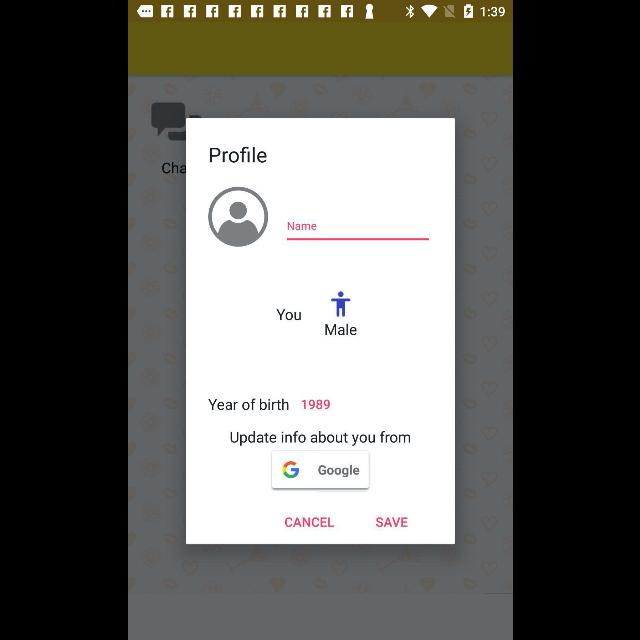icon: (208, 188, 268, 246)
image: (330, 292, 350, 316)
input: (286, 222, 428, 242)
panel: (185, 119, 455, 544)
text: (229, 431, 409, 445), (208, 399, 288, 411), (208, 147, 266, 163), (284, 517, 334, 527), (324, 323, 356, 335), (286, 222, 316, 232), (376, 517, 406, 527), (301, 399, 329, 409), (276, 310, 300, 320)
textbutton: (272, 450, 368, 488)
uppertaskbar: (128, 1, 512, 23)
